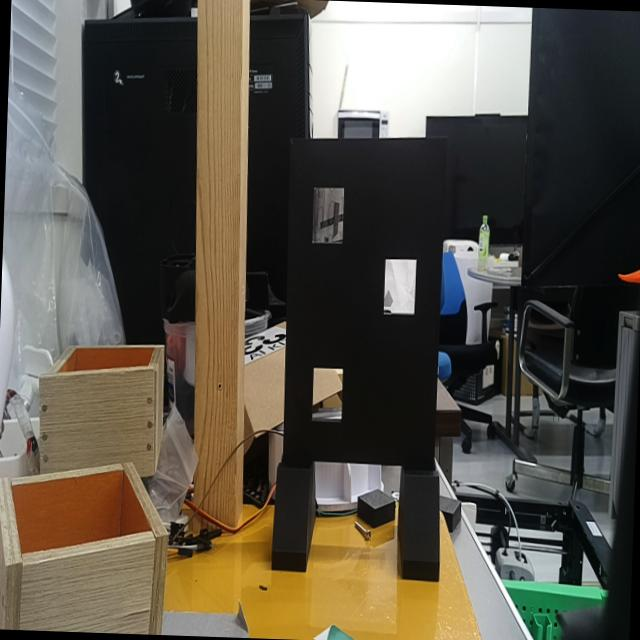Obstacle: (383, 256, 416, 314), (311, 366, 343, 422), (313, 187, 344, 244)
Wall: (282, 135, 448, 470)
